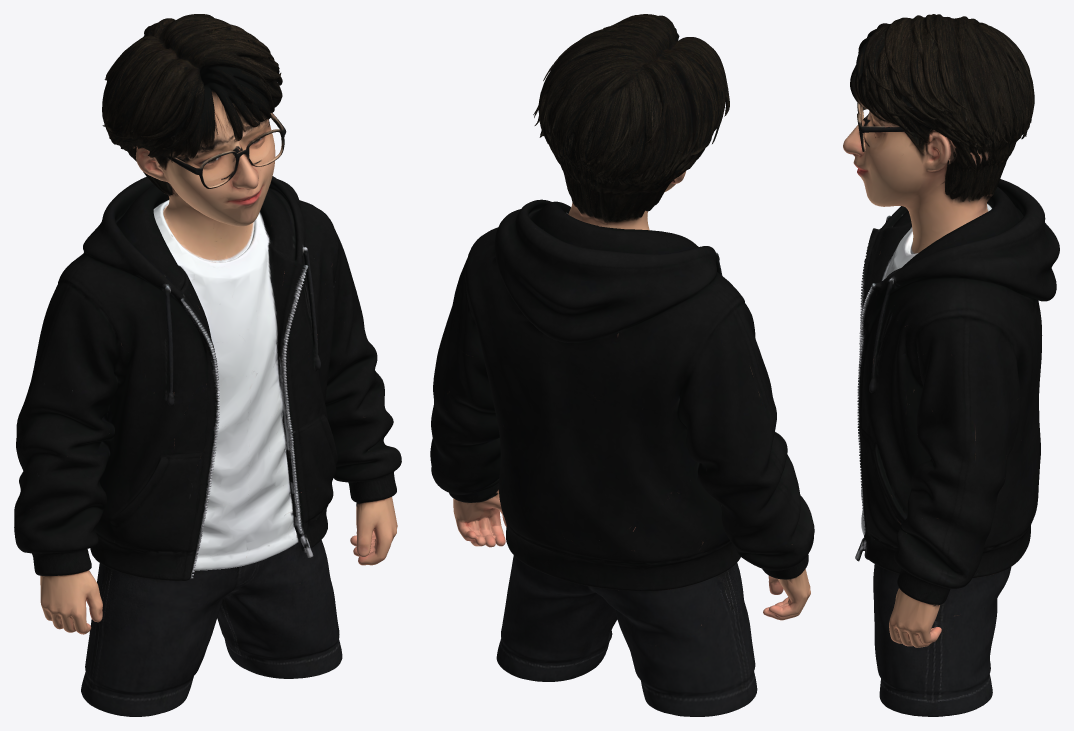
Rendered from scholar.glb.
3 renders of one model, left to right at view 1: azimuth 30°, elevation 25°; view 2: azimuth 150°, elevation 25°; view 3: azimuth 270°, elevation 25°, orthographic. The views are drawn at different scales.
Size of the model in its own units: 1.15 by 1.9 by 0.5889.
Materials: 1 (1 with a texture image).
